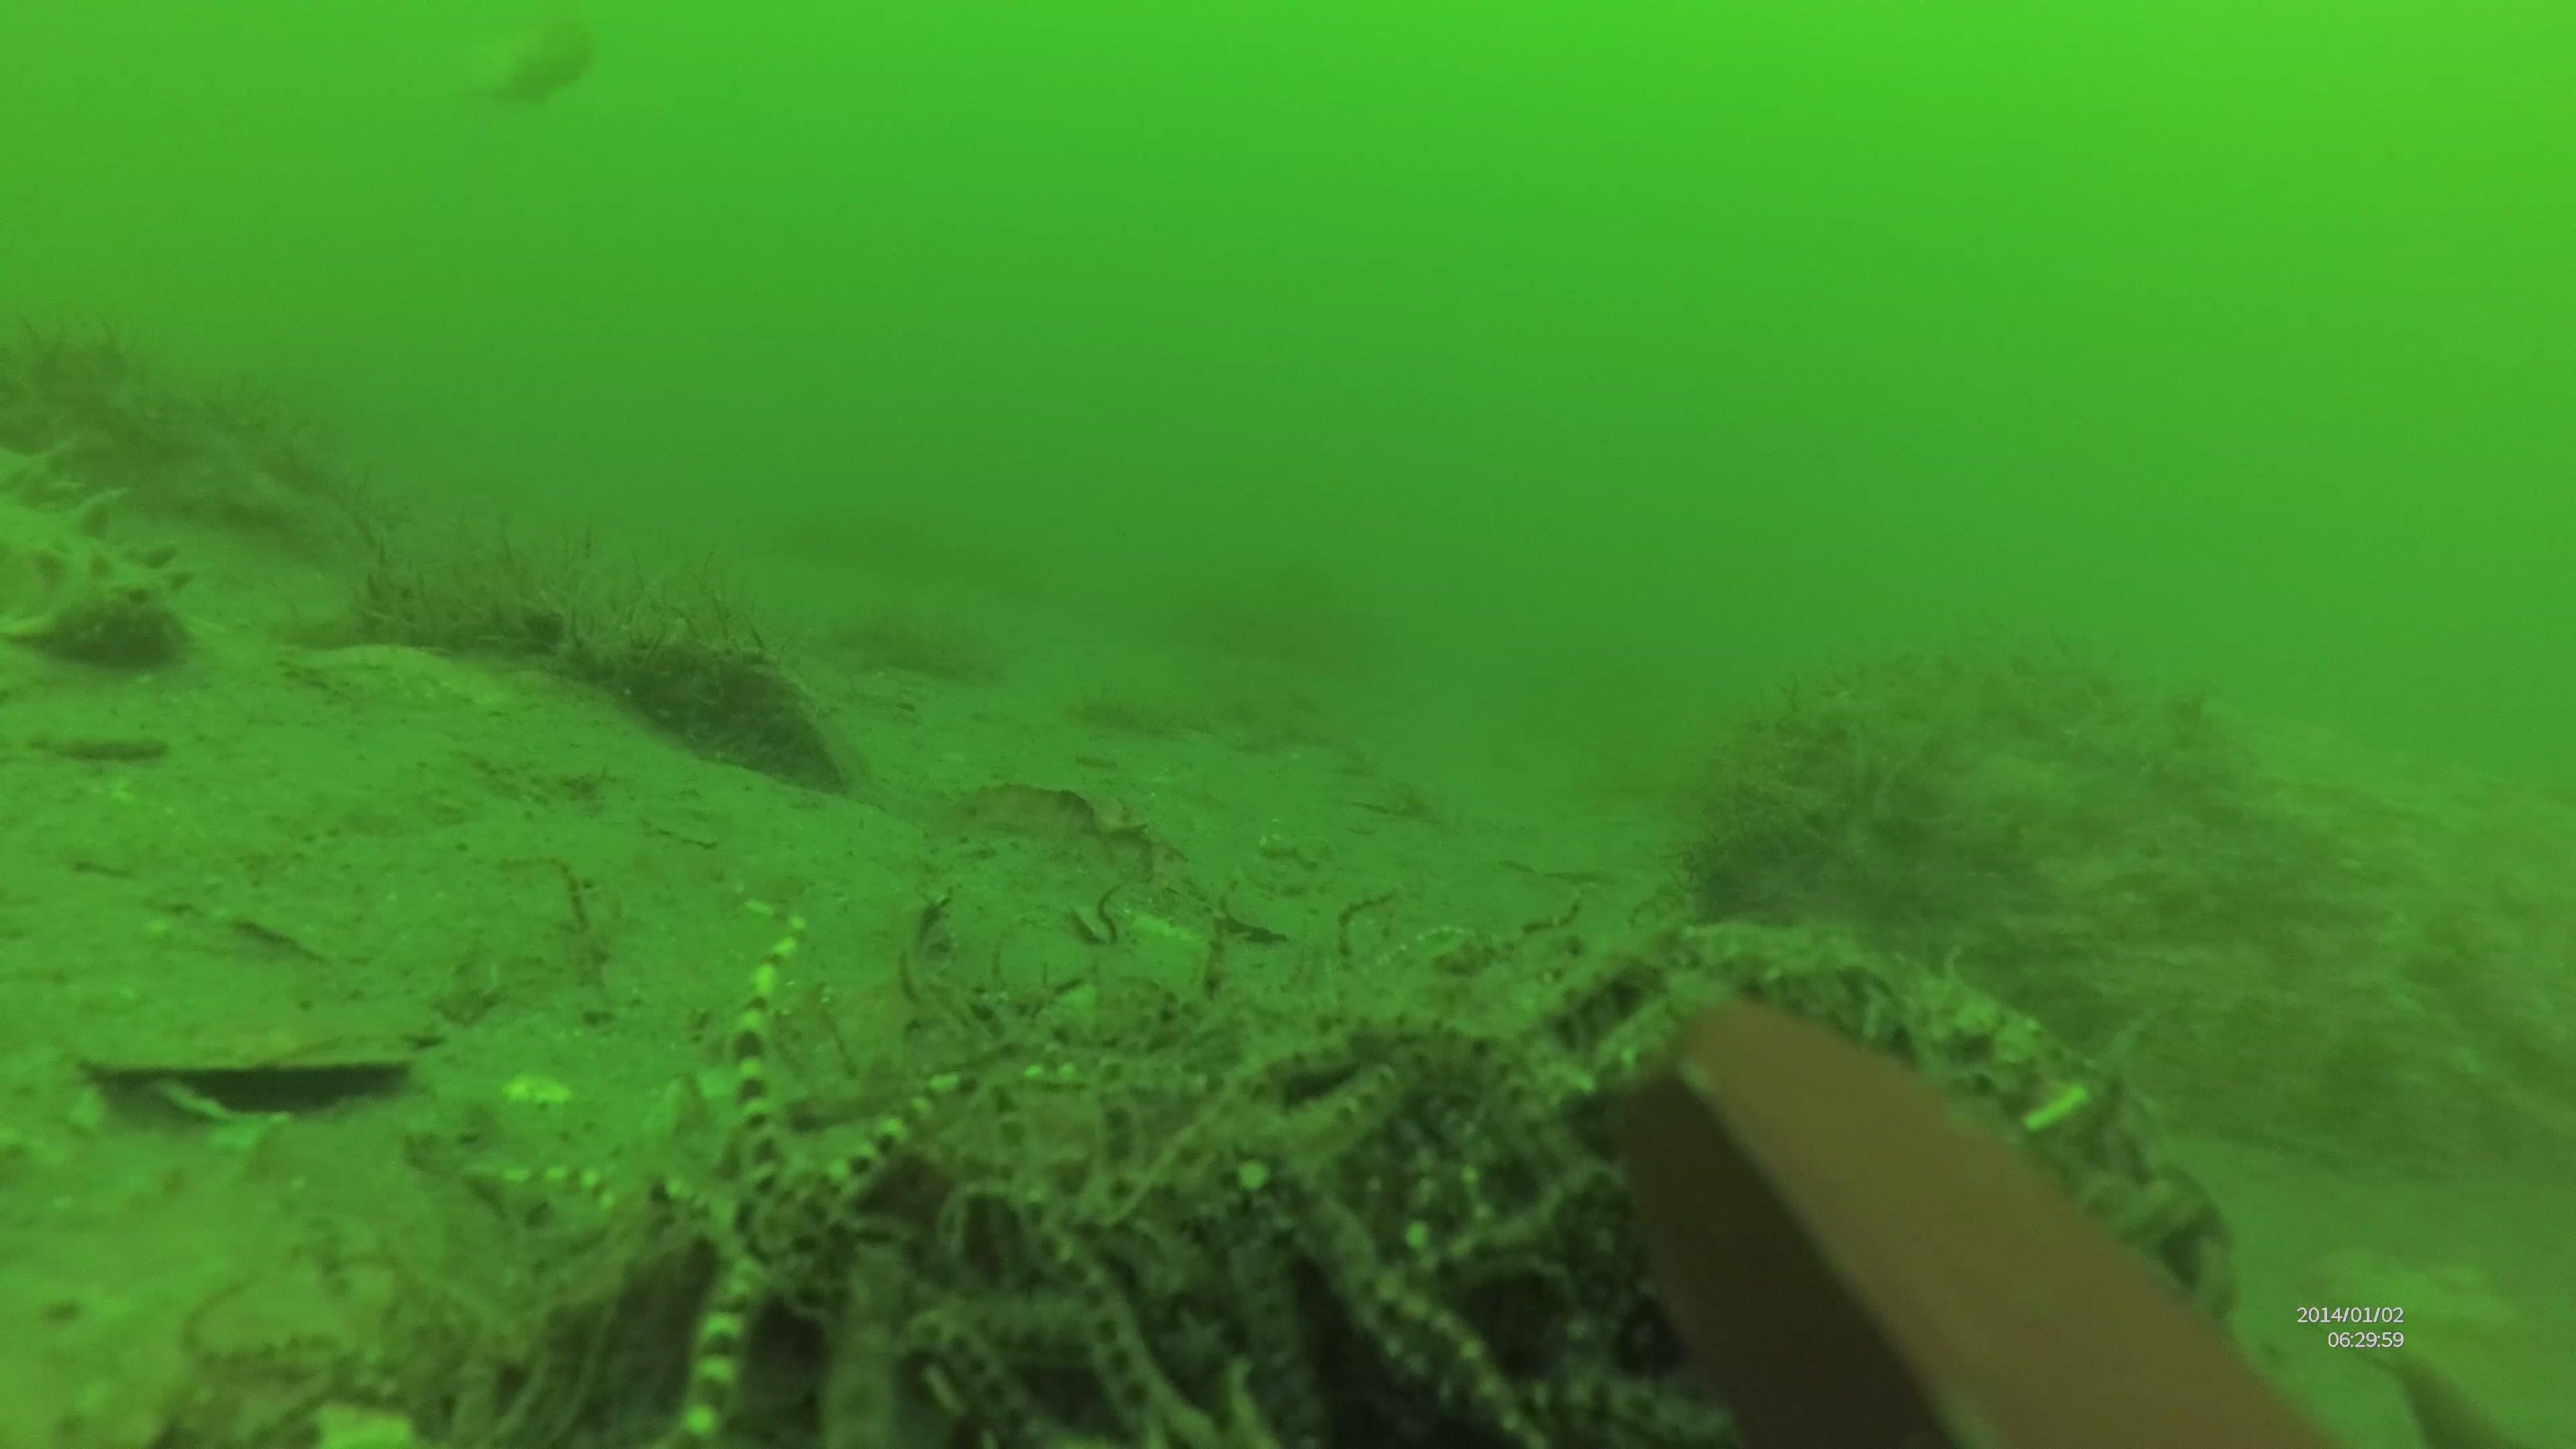holothurian: (2, 448, 196, 674)
scallop: (69, 994, 409, 1143)
starfish: (453, 927, 1079, 1449)
